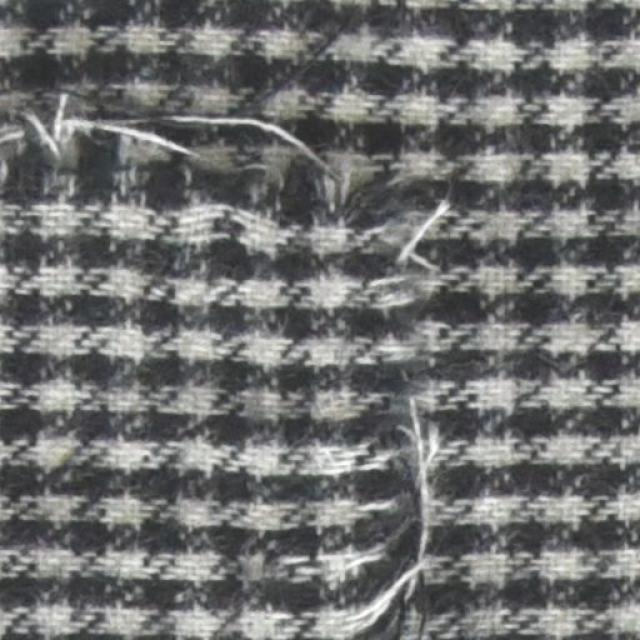Snag: (0, 82, 464, 640)
